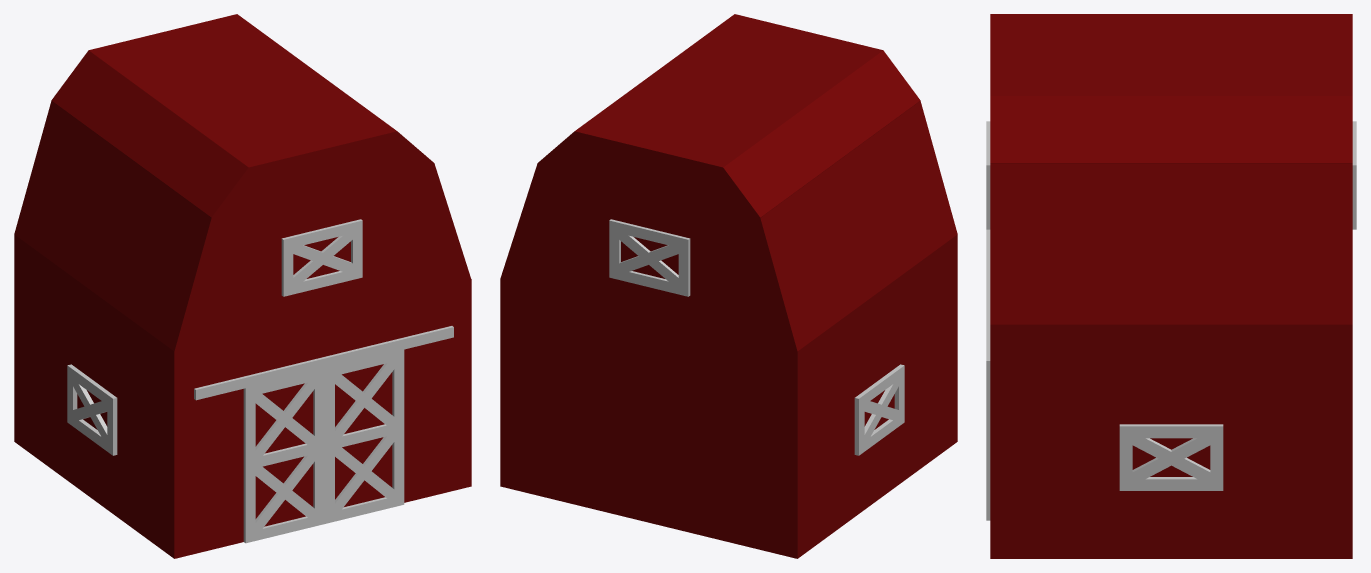
The model's file is Barn.obj.
3 renders of one model, left to right at view 1: azimuth 30°, elevation 25°; view 2: azimuth 150°, elevation 25°; view 3: azimuth 270°, elevation 25°, orthographic. The views are drawn at different scales.
Visible parts, largest first — view 1: Barn_Outline, Barn_Door_Pattern, Cube.004, Barn_Door_Slider, Cube.002, Barn_X_3, Barn_X_1, Barn_X_2, Barn_X_4; view 2: Barn_Outline, Cube.003, Cube.002; view 3: Barn_Outline, Cube.001, Barn_Door_Pattern, Barn_Door_Slider, Cube.003, Cube.004.
Part boxes in pixels (<box>): Barn_Outline: <box>14,14,471,558</box>; Barn_Door_Pattern: <box>243,349,404,543</box>; Cube.004: <box>281,219,362,296</box>; Barn_Door_Slider: <box>194,326,453,400</box>; Cube.002: <box>67,364,117,455</box>; Barn_X_3: <box>247,454,314,539</box>; Barn_X_1: <box>248,372,317,465</box>; Barn_X_2: <box>335,360,400,437</box>; Barn_X_4: <box>335,434,394,510</box>; Barn_Outline: <box>500,14,957,558</box>; Cube.003: <box>609,219,690,296</box>; Cube.002: <box>854,364,904,455</box>; Barn_Outline: <box>990,14,1352,558</box>; Cube.001: <box>1119,424,1223,490</box>; Barn_Door_Pattern: <box>986,372,990,520</box>; Barn_Door_Slider: <box>986,229,990,372</box>; Cube.003: <box>1352,121,1356,229</box>; Cube.004: <box>986,121,990,229</box>.
Bounding box in the file's own units: 15.42 × 18 × 14.32.
